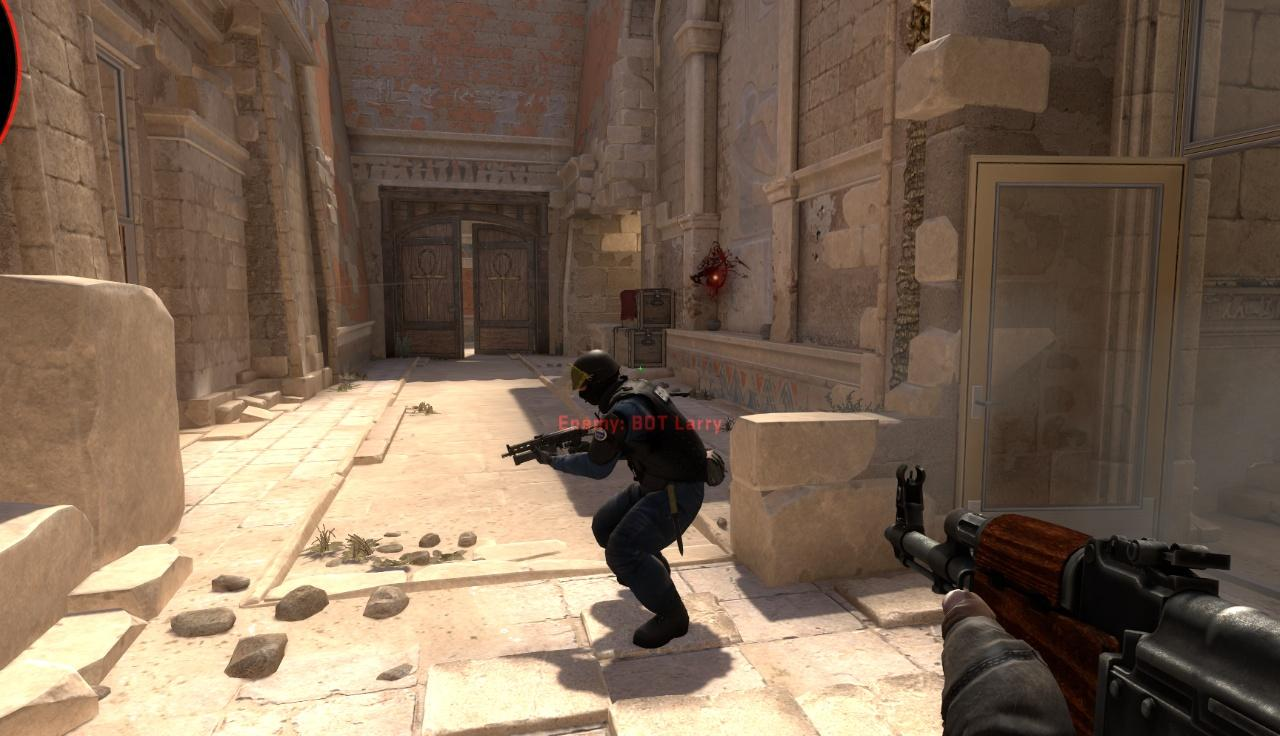ct: (537, 353, 711, 647)
cthead: (568, 349, 623, 405)
rifle: (886, 479, 1280, 734)
